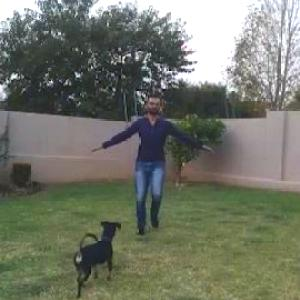land: (90, 90, 228, 257)
